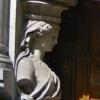Statue: (9, 13, 69, 99)
